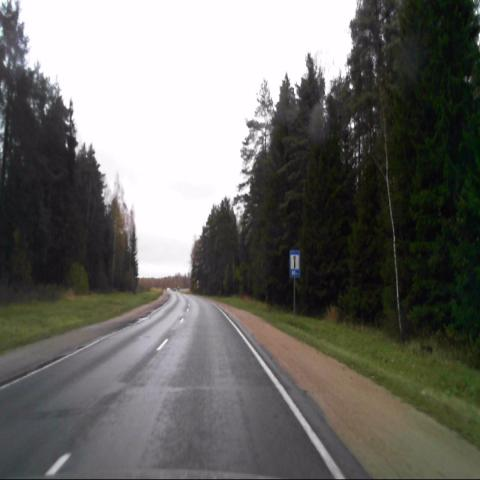7_4: (289, 248, 300, 278)
